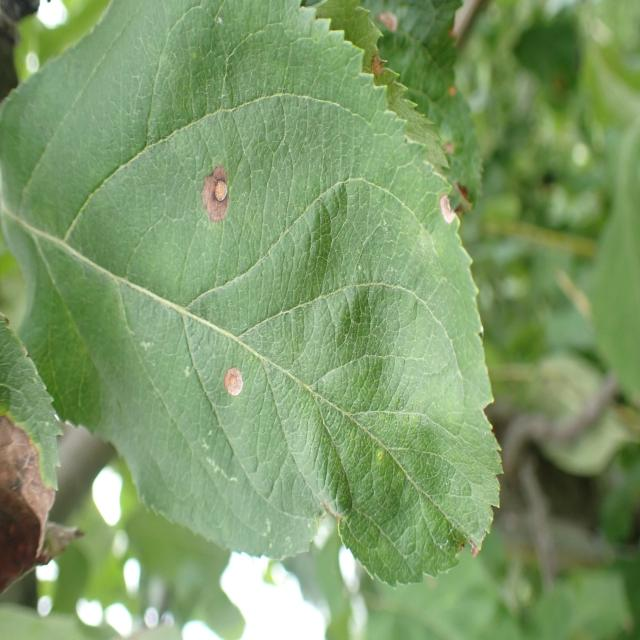Black Rot: (190, 153, 250, 230), (428, 164, 461, 237), (210, 367, 264, 399)
